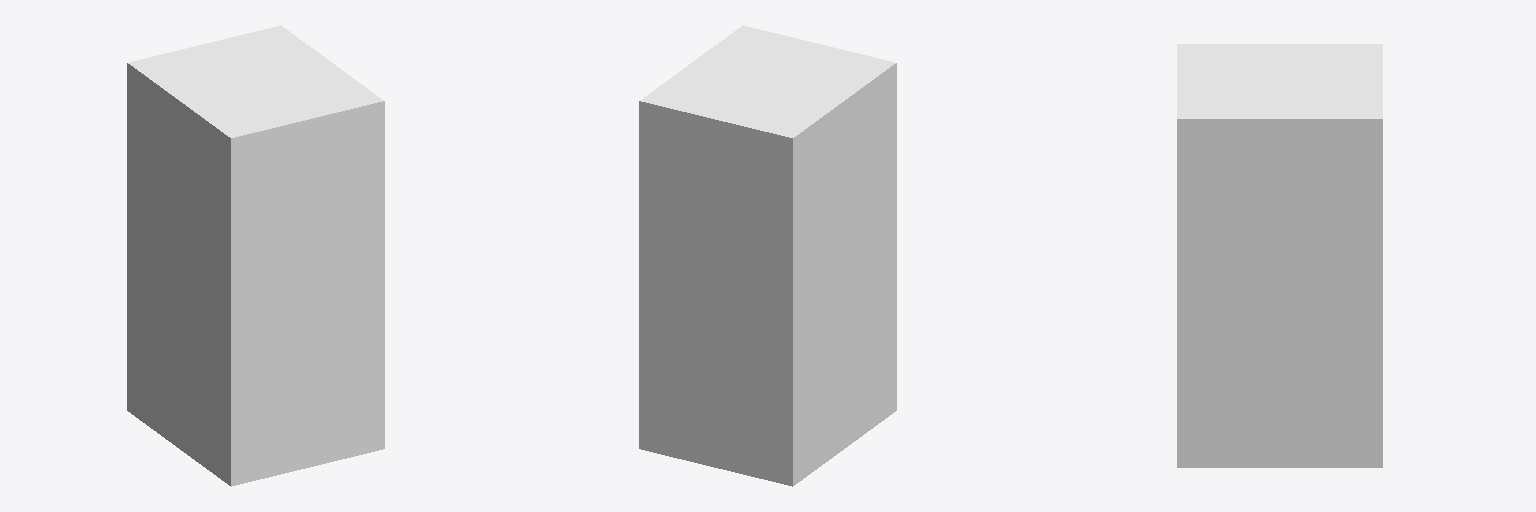
Rendered from FFrighthanddown.obj.
The picture shows the model from 3 angles: view 1: azimuth 30°, elevation 25°; view 2: azimuth 150°, elevation 25°; view 3: azimuth 270°, elevation 25°; orthographic projection.
Parts seen in each view (by area): view 1: object 1; view 2: object 1; view 3: object 1.
Part boxes in pixels (x1,y1,x2,y2): object 1: (127, 25, 384, 486); object 1: (639, 25, 896, 486); object 1: (1177, 44, 1382, 467).
Size of the model in its own units: 0.6 by 1.3 by 0.7.